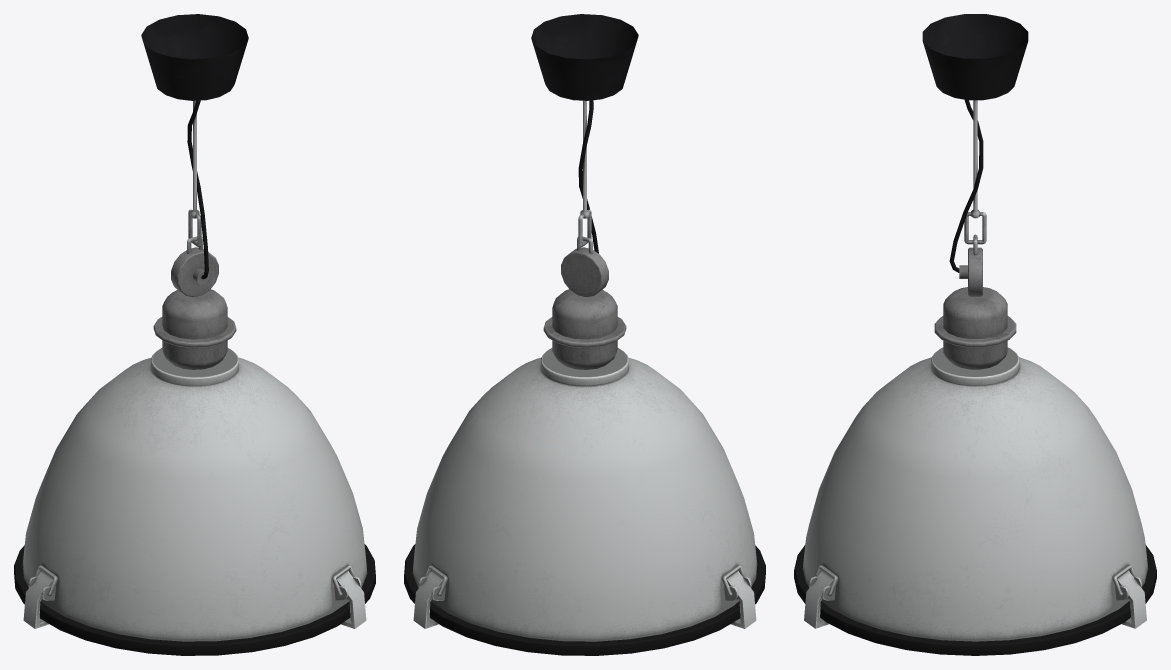
Rendered from Lamp_01.FBX.
3 views of the same model, side by side, from view 1: azimuth 30°, elevation 25°; view 2: azimuth 150°, elevation 25°; view 3: azimuth 270°, elevation 25° (orthographic).
Visible parts, largest first — view 1: Lamp_01; view 2: Lamp_01; view 3: Lamp_01.
Boxes of the visible parts, x1,y1,x2,y2 form: Lamp_01: (14, 14, 375, 655); Lamp_01: (404, 14, 765, 655); Lamp_01: (794, 14, 1156, 655).
Size of the model in its own units: 43.16 by 69.99 by 42.
